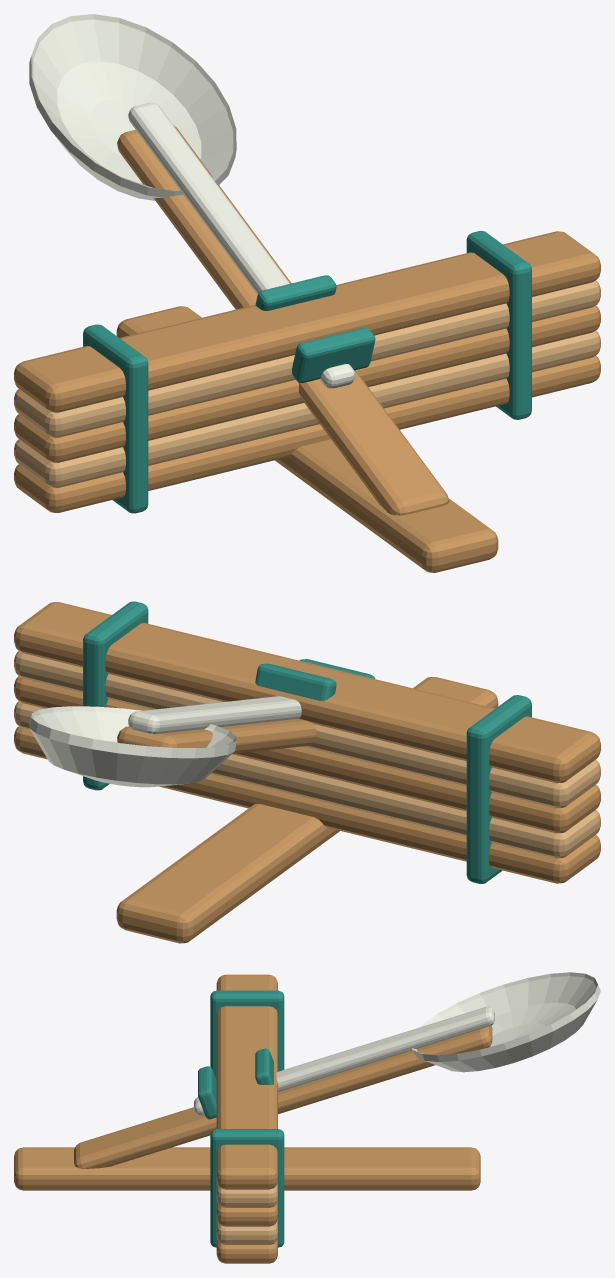
The model's file is NEW_RECOVERY_129_LOD1.glb.
3 views of the same model, one above another, from view 1: azimuth 30°, elevation 25°; view 2: azimuth 150°, elevation 25°; view 3: azimuth 270°, elevation 25° (orthographic). The views are drawn at different scales.
Parts seen in each view (by area): view 1: Static craft display; view 2: Static craft display; view 3: Static craft display.
Boxes of the visible parts, x1,y1,x2,y2 form: Static craft display: (14,14,600,572); Static craft display: (14,601,600,943); Static craft display: (14,972,600,1263).
Bounding box in the file's own units: 3.7 × 1.69 × 4.59.
